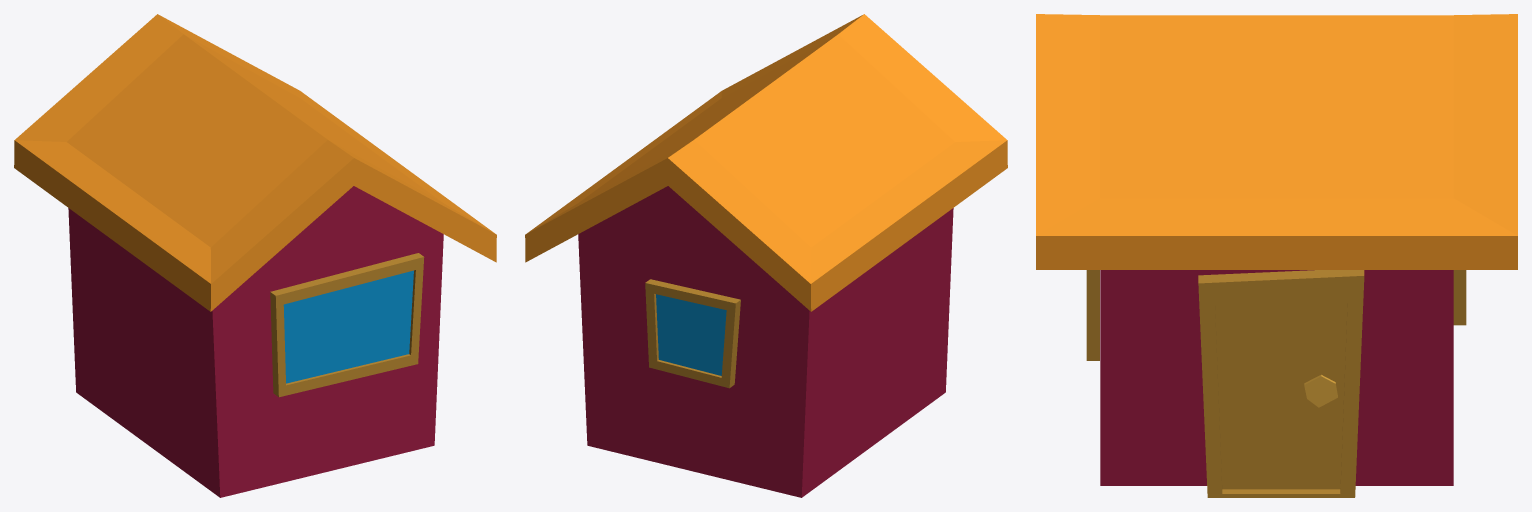
File: House5.fbx
3 renders of one model, left to right at view 1: azimuth 30°, elevation 25°; view 2: azimuth 150°, elevation 25°; view 3: azimuth 270°, elevation 25°, orthographic. The views are drawn at different scales.
Visible parts, largest first — view 1: Cube, Cube.004; view 2: Cube, Cube.002; view 3: Cube, Cube.001, Cube.004, Cylinder, Cube.002.
Boxes of the visible parts, x1,y1,x2,y2 form: Cube: [14, 14, 496, 497]; Cube.004: [270, 253, 424, 397]; Cube: [525, 14, 1007, 497]; Cube.002: [645, 279, 740, 388]; Cube: [1036, 14, 1517, 485]; Cube.001: [1198, 270, 1364, 497]; Cube.004: [1086, 270, 1099, 360]; Cylinder: [1304, 374, 1337, 407]; Cube.002: [1453, 270, 1466, 325].
Size of the model in its own units: 342 by 380 by 407.
